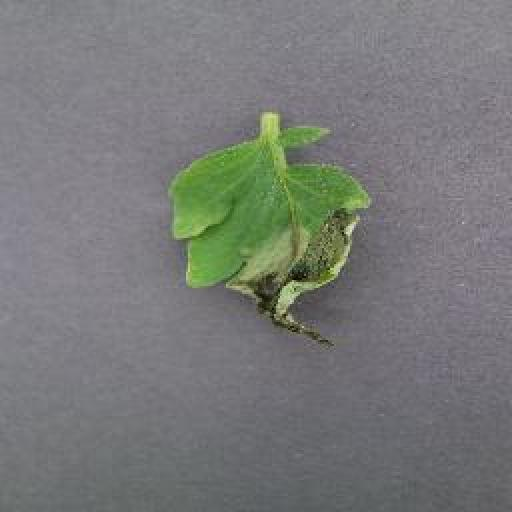disease_tomato: (168, 124, 375, 349)
